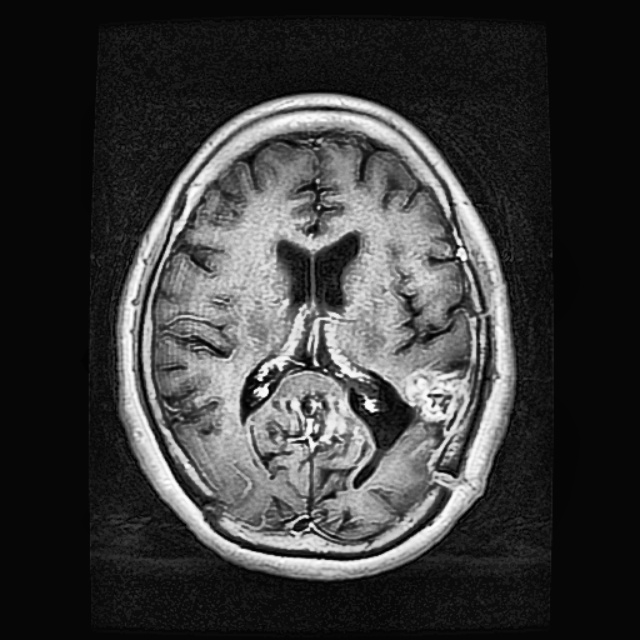Glioma: (400, 362, 460, 424)
